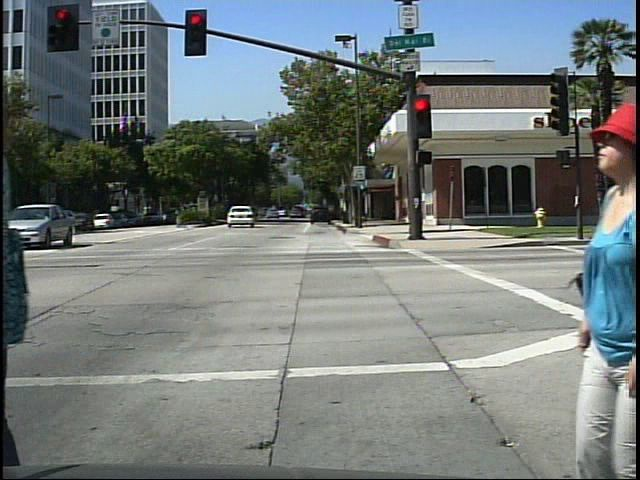person: (0, 64, 60, 467)
